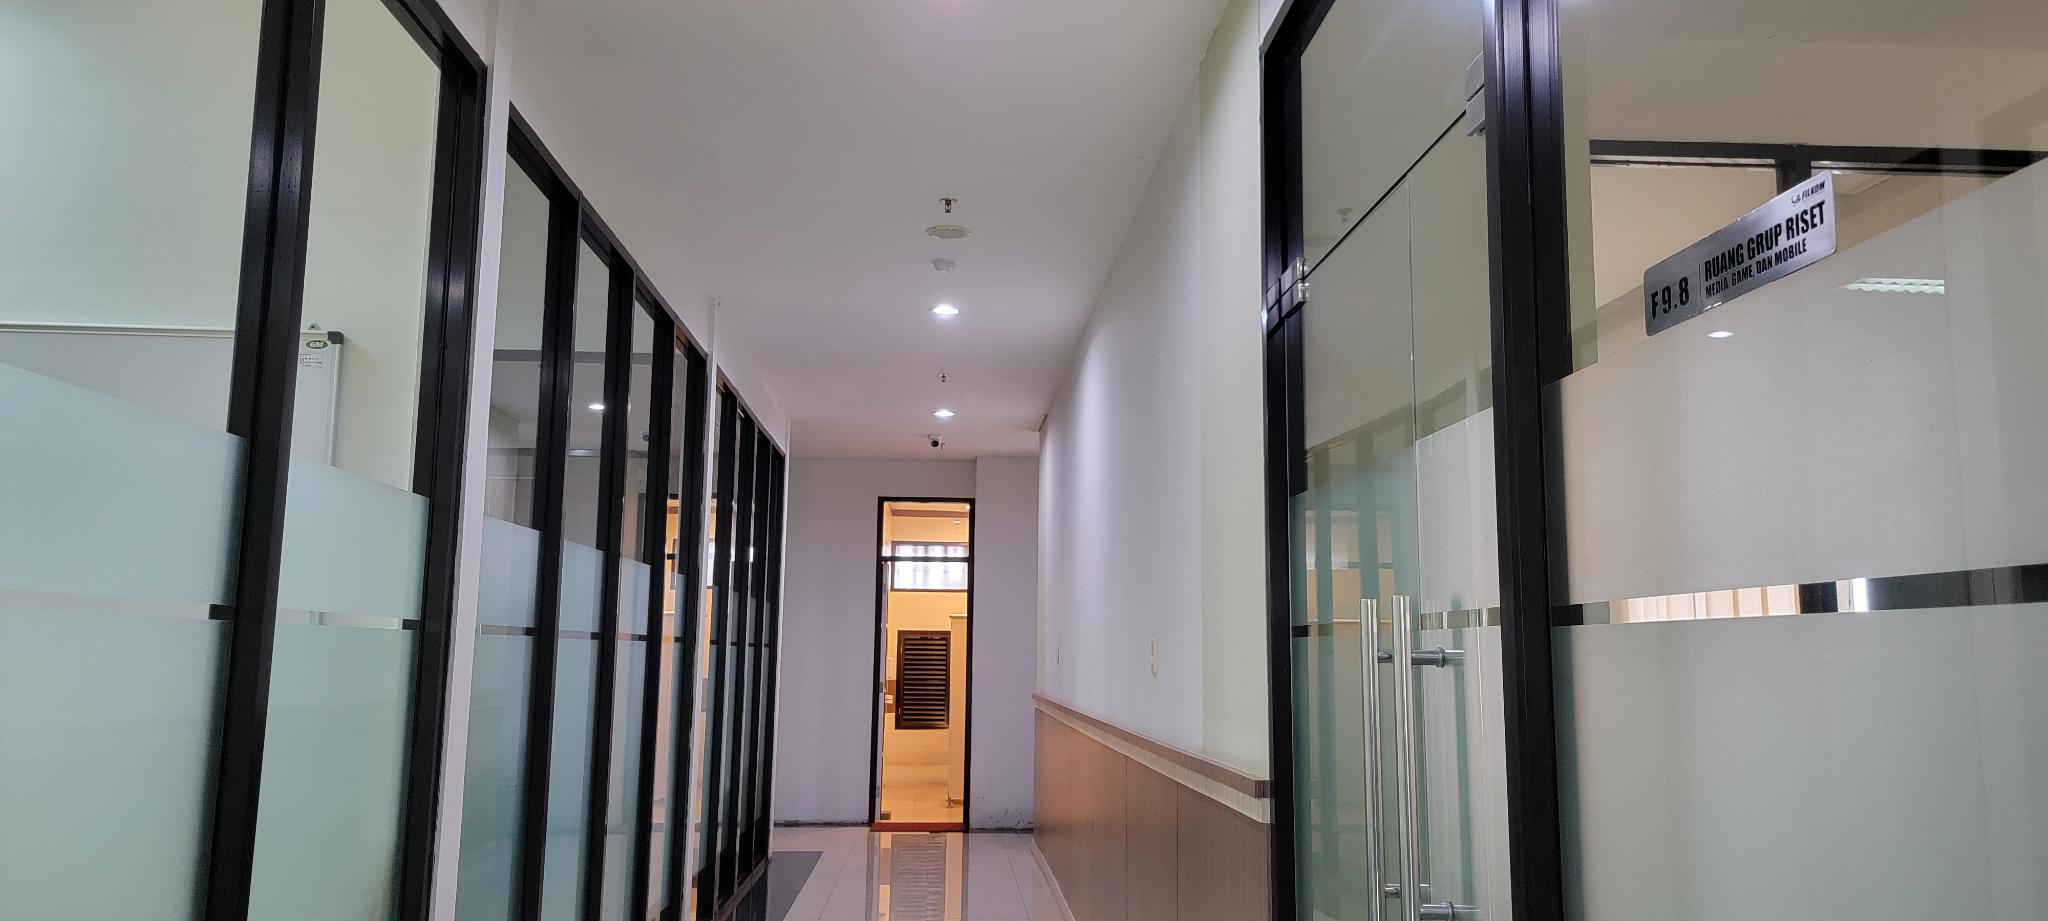plate: (1642, 167, 1838, 340)
